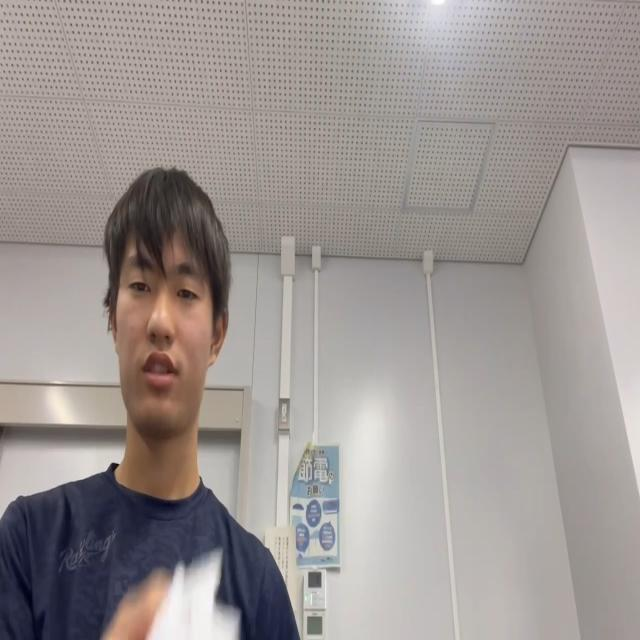paper: (145, 547, 241, 639)
